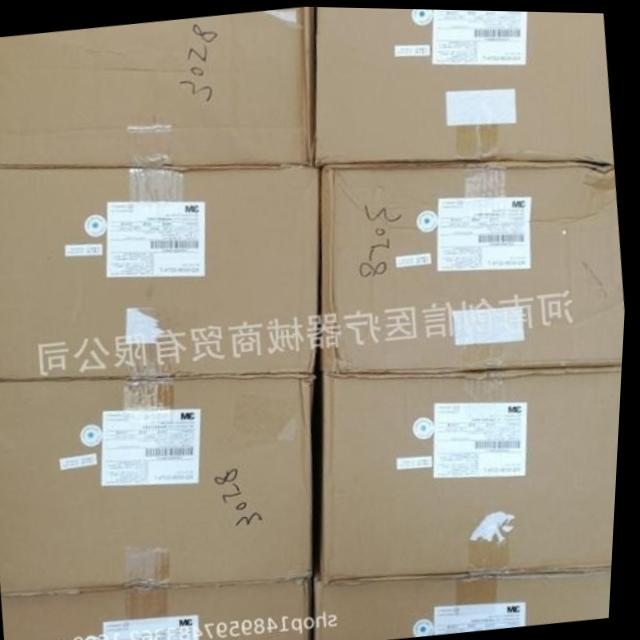box: (0, 371, 322, 595), (0, 165, 323, 379), (322, 366, 626, 584), (322, 157, 628, 371), (0, 5, 315, 167), (315, 6, 616, 167), (319, 566, 617, 640), (8, 576, 320, 640)
